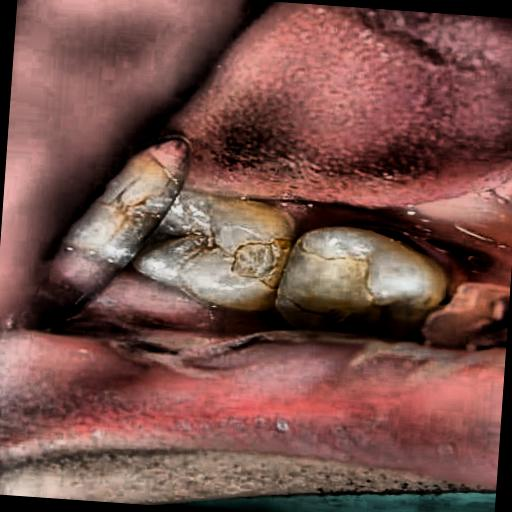Caries: (176, 192, 399, 338)
